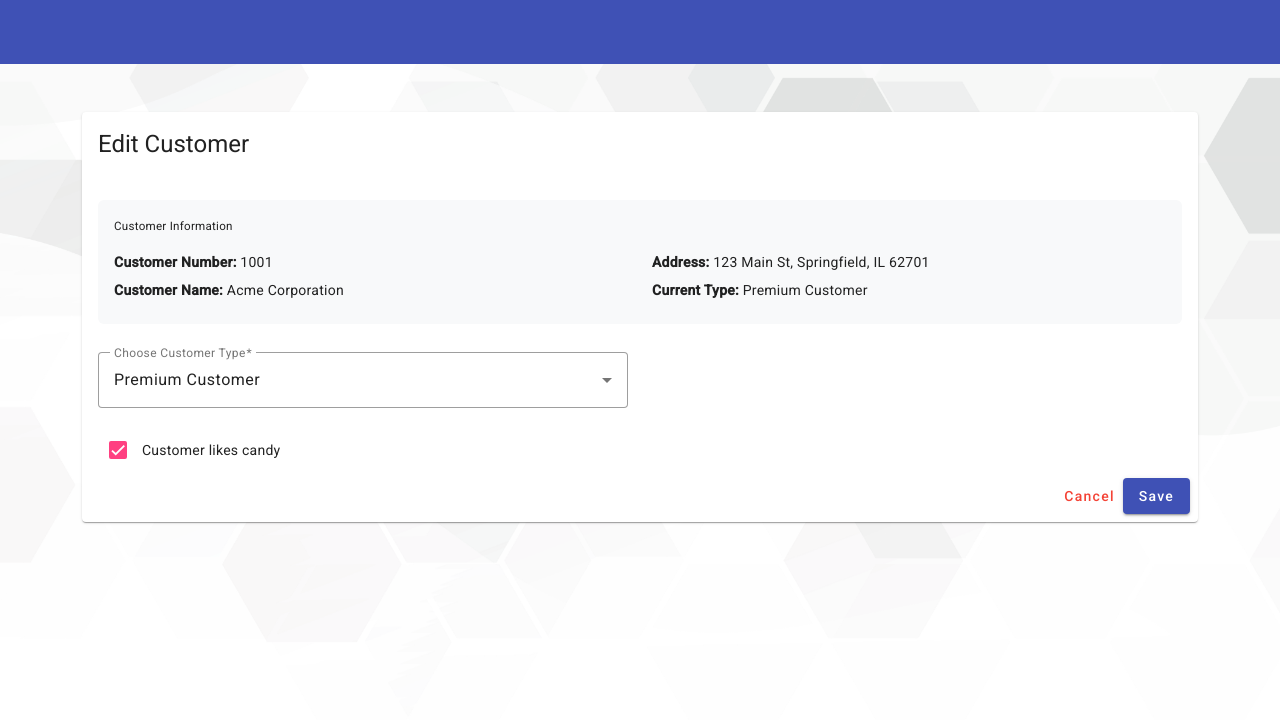
Test case: 03 - Edit Customer (Mock Mode) › Cancel Actions › should show confirmation when canceling with unsaved changes
Check: the element with test id "customer-type-select" is shown, box [98,352,628,430]
Note: Make a change
Click the dropdown labelled "Premium Customer": (187, 380) [114,368,612,392]
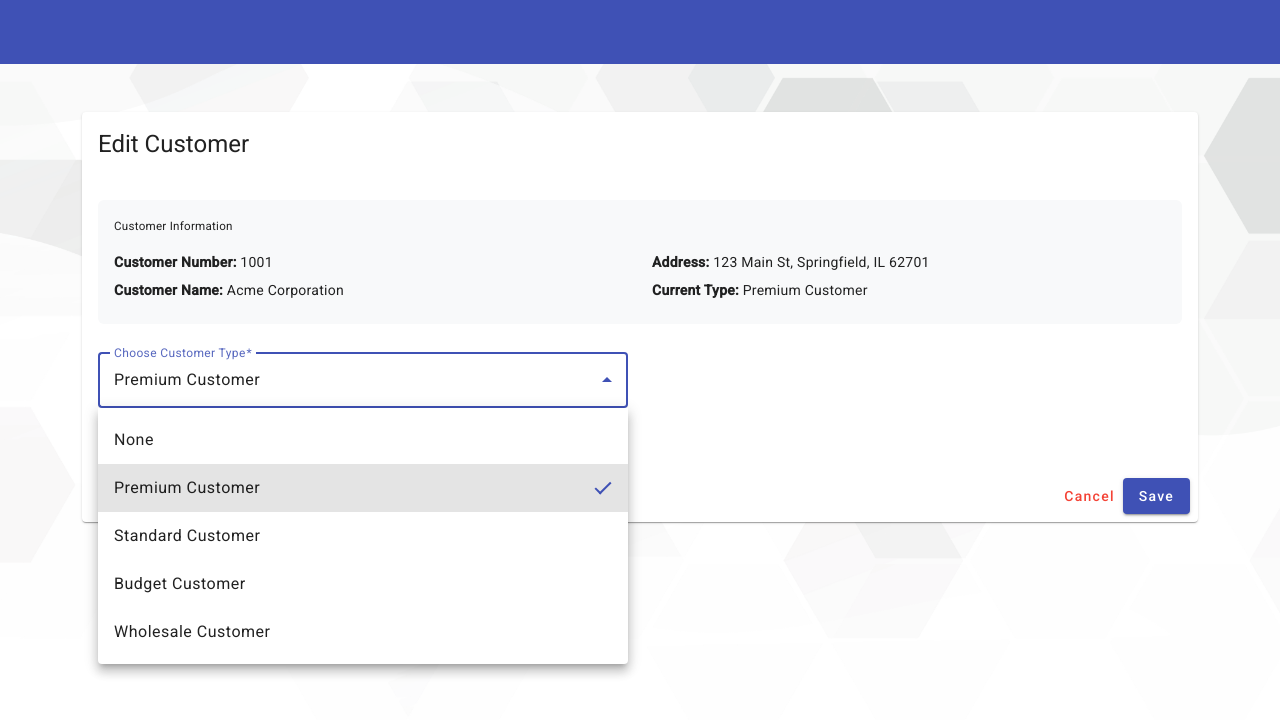
Click the text "Standard Customer": (187, 536) [114,524,260,548]
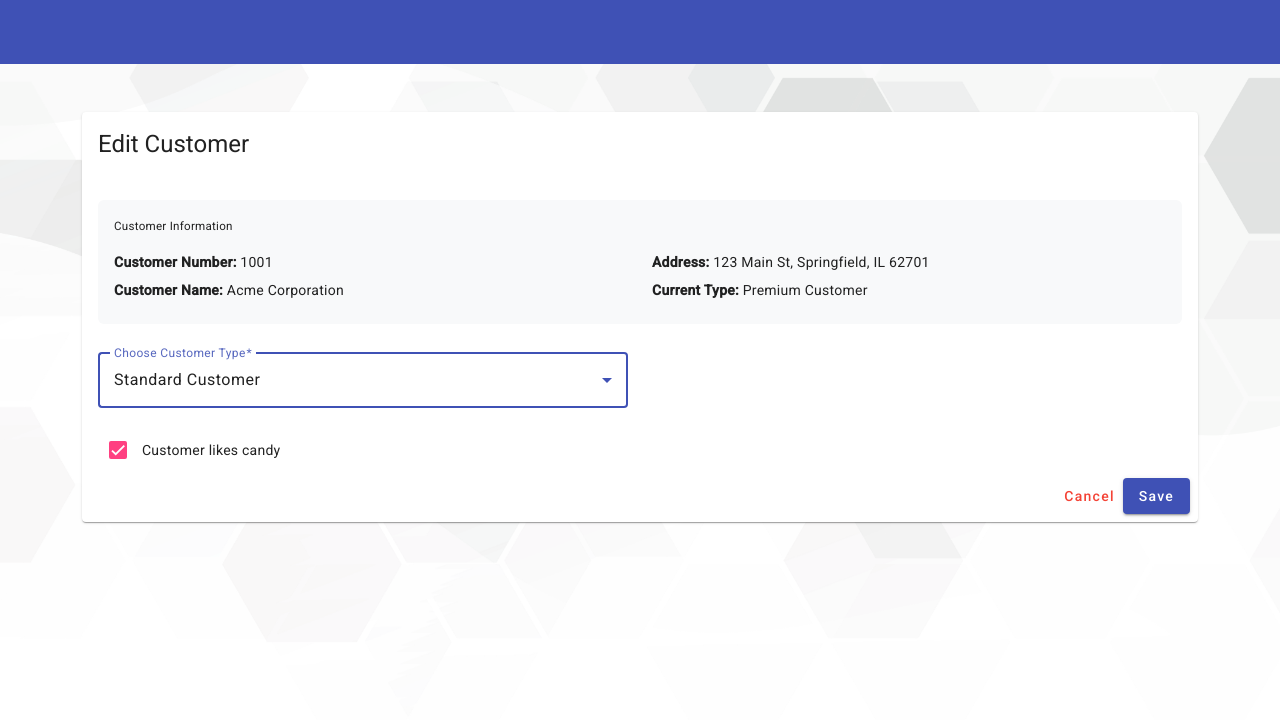
Note: Try to cancel
Click the button with test id "cancel-button": (1089, 496) [1056,478,1122,514]
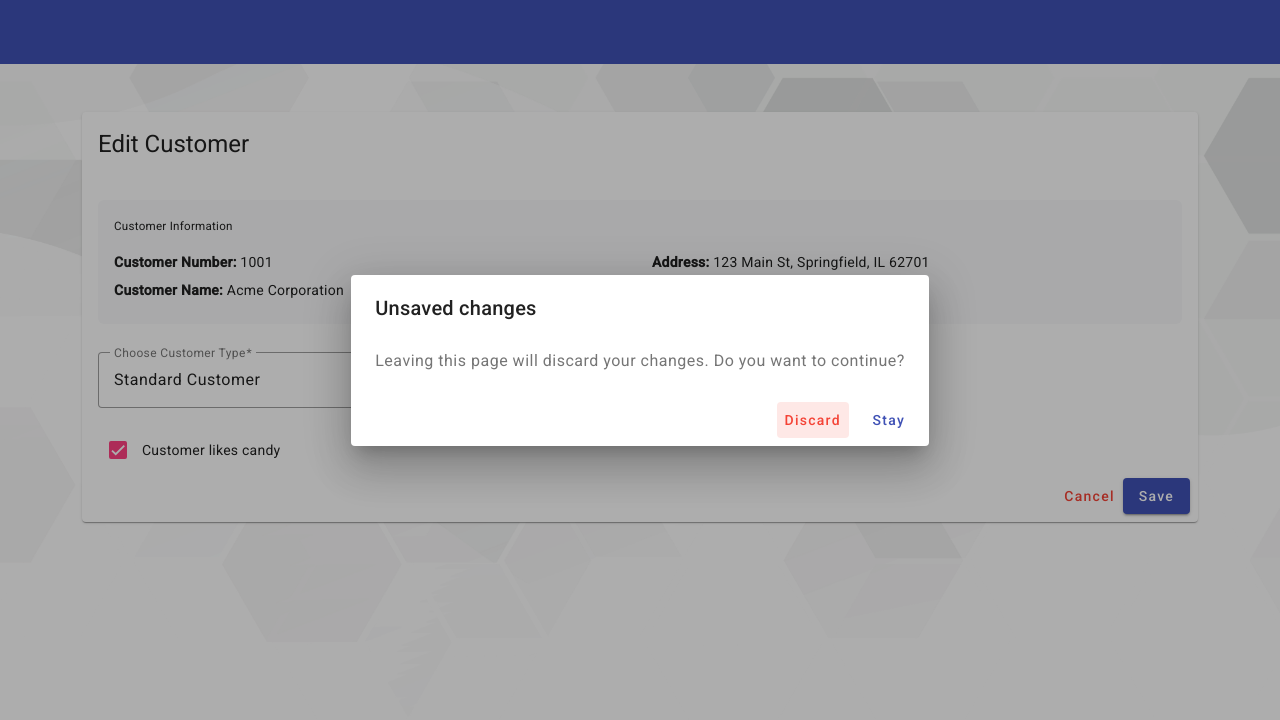
Check: the dialog is shown, box [351,275,929,446]
